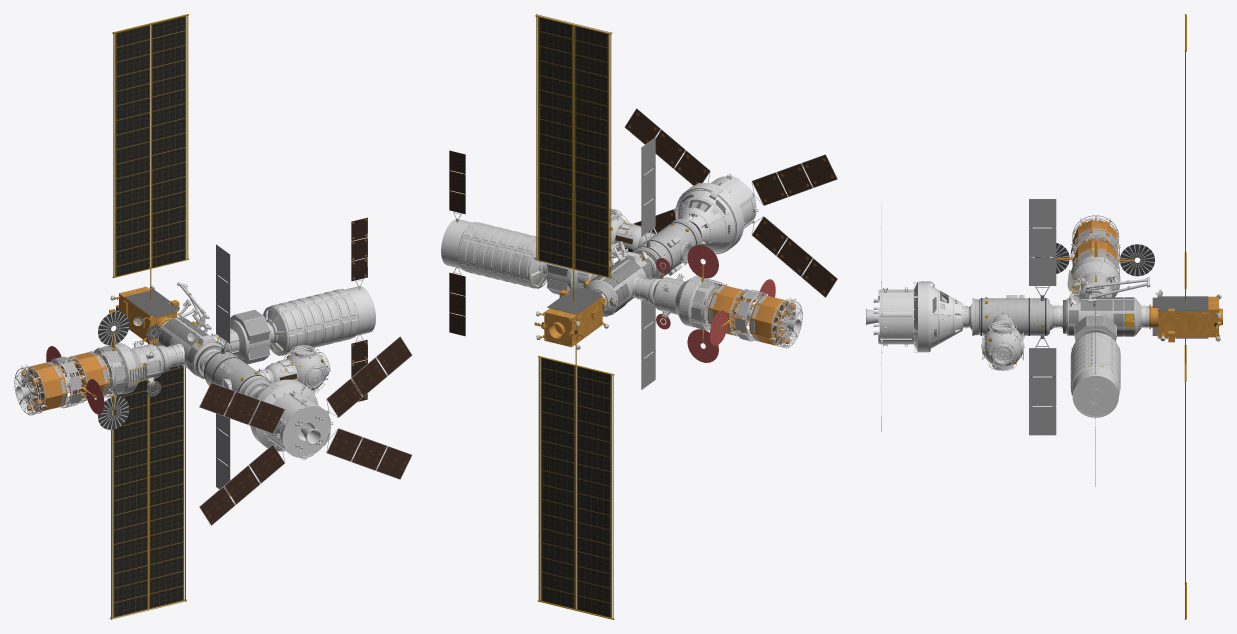
File: gateway.glb
The picture shows the model from 3 angles, left to right: view 1: azimuth 30°, elevation 25°; view 2: azimuth 150°, elevation 25°; view 3: azimuth 270°, elevation 25°; orthographic projection. The views are drawn at different scales.
Visible parts, largest first — view 1: PAPE_Plate01_Power_And_Propulsion_Element_0, Orion_Back_Orion_0, HLS_Main_Human_Lander_System_0, Logistics_Vehicle_Handle29_Logistics_Vehicle_0, IHAB_Main_International_Habitation_Module_0, HALO_Main_Habitation_And_Logistics_Outpost_0, Espirit_Refueller_Connector02_Main02_Cable01_Espirit_Refuell, CrewAirlock_RAAP_Large04_CrewAirlock_0, Canadarm_Main_Canadarm_0; view 2: PAPE_Plate01_Power_And_Propulsion_Element_0, Orion_Back_Orion_0, HLS_Main_Human_Lander_System_0, Logistics_Vehicle_Handle29_Logistics_Vehicle_0, IHAB_Main_International_Habitation_Module_0, HALO_Main_Habitation_And_Logistics_Outpost_0, CrewAirlock_RAAP_Large04_CrewAirlock_0, Espirit_Refueller_Connector02_Main02_Cable01_Espirit_Refuell; view 3: IHAB_Main_International_Habitation_Module_0, Orion_Back_Orion_0, HLS_Main_Human_Lander_System_0, PAPE_Plate01_Power_And_Propulsion_Element_0, Logistics_Vehicle_Handle29_Logistics_Vehicle_0, HALO_Main_Habitation_And_Logistics_Outpost_0, CrewAirlock_RAAP_Large04_CrewAirlock_0, Espirit_Refueller_Connector02_Main02_Cable01_Espirit_Refuell, Canadarm_Main_Canadarm_0.
Part boxes in pixels (<box>): PAPE_Plate01_Power_And_Propulsion_Element_0: <box>109,14,189,619</box>; Orion_Back_Orion_0: <box>199,336,412,525</box>; HLS_Main_Human_Lander_System_0: <box>14,311,180,429</box>; Logistics_Vehicle_Handle29_Logistics_Vehicle_0: <box>263,217,375,401</box>; IHAB_Main_International_Habitation_Module_0: <box>204,244,271,496</box>; HALO_Main_Habitation_And_Logistics_Outpost_0: <box>158,317,225,378</box>; Espirit_Refueller_Connector02_Main02_Cable01_Espirit_Refuell: <box>212,309,270,364</box>; CrewAirlock_RAAP_Large04_CrewAirlock_0: <box>259,345,330,394</box>; Canadarm_Main_Canadarm_0: <box>177,282,211,333</box>; PAPE_Plate01_Power_And_Propulsion_Element_0: <box>534,14,617,619</box>; Orion_Back_Orion_0: <box>624,108,837,297</box>; HLS_Main_Human_Lander_System_0: <box>636,244,802,362</box>; Logistics_Vehicle_Handle29_Logistics_Vehicle_0: <box>441,150,546,336</box>; IHAB_Main_International_Habitation_Module_0: <box>632,137,701,389</box>; HALO_Main_Habitation_And_Logistics_Outpost_0: <box>583,245,652,316</box>; CrewAirlock_RAAP_Large04_CrewAirlock_0: <box>609,208,654,258</box>; Espirit_Refueller_Connector02_Main02_Cable01_Espirit_Refuell: <box>546,263,597,294</box>; IHAB_Main_International_Habitation_Module_0: <box>965,199,1057,435</box>; Orion_Back_Orion_0: <box>866,202,965,431</box>; HLS_Main_Human_Lander_System_0: <box>1034,215,1154,298</box>; PAPE_Plate01_Power_And_Propulsion_Element_0: <box>1145,14,1222,619</box>; Logistics_Vehicle_Handle29_Logistics_Vehicle_0: <box>1070,302,1120,486</box>; HALO_Main_Habitation_And_Logistics_Outpost_0: <box>1057,282,1145,336</box>; CrewAirlock_RAAP_Large04_CrewAirlock_0: <box>981,316,1024,370</box>; Espirit_Refueller_Connector02_Main02_Cable01_Espirit_Refuell: <box>1074,315,1116,341</box>; Canadarm_Main_Canadarm_0: <box>1084,274,1150,306</box>.
Bounding box in the file's own units: 28.64 × 46.16 × 26.14.
Materials: 9 (9 with a texture image).
